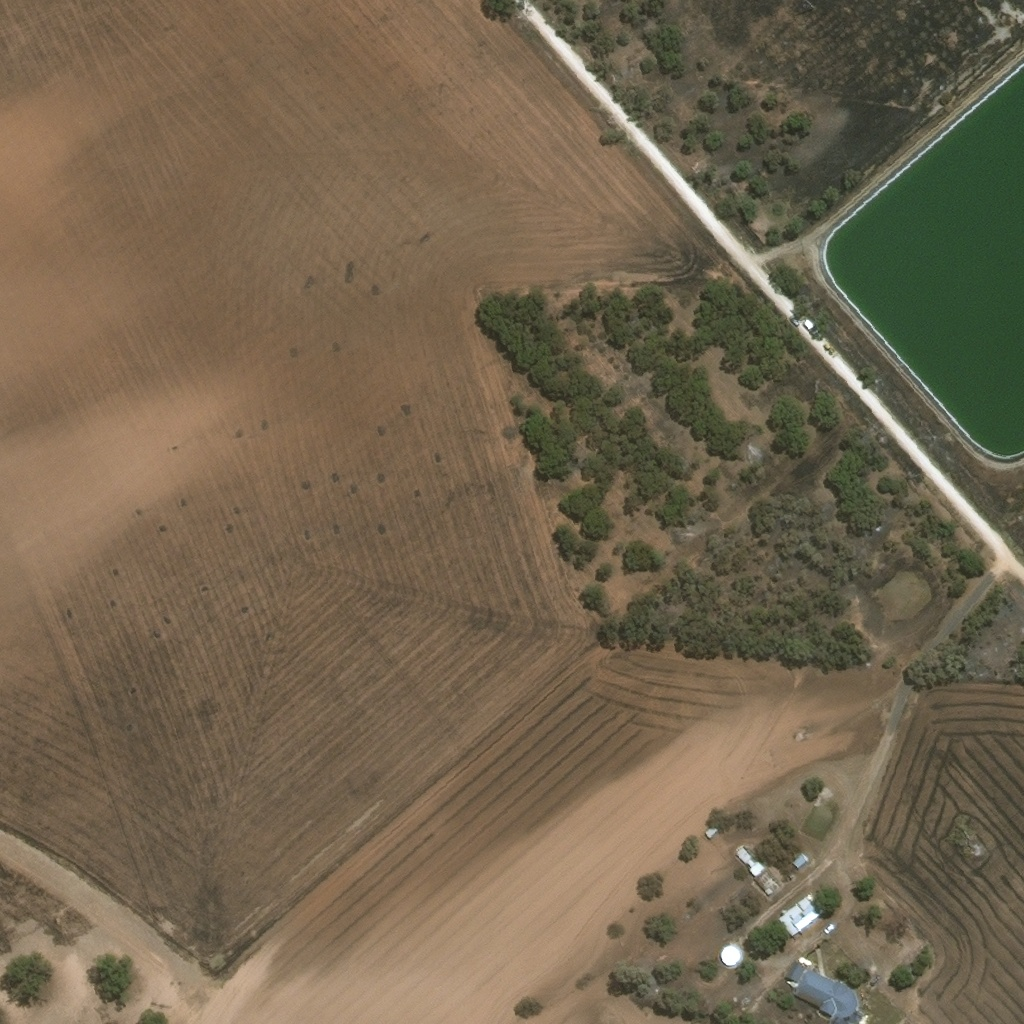0 no-damage: (795, 969, 865, 1023), (778, 897, 819, 938), (735, 848, 766, 880), (757, 873, 780, 898), (787, 961, 810, 982), (721, 945, 742, 967), (792, 854, 809, 870), (705, 825, 719, 840)
4 un-classified: (773, 868, 782, 877)
